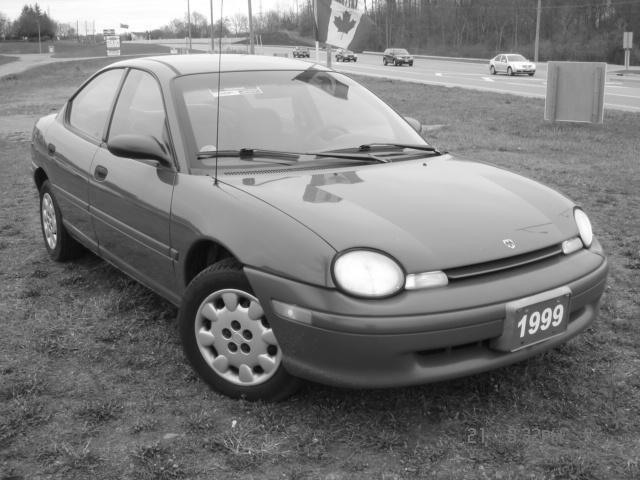car: (27, 49, 611, 396)
